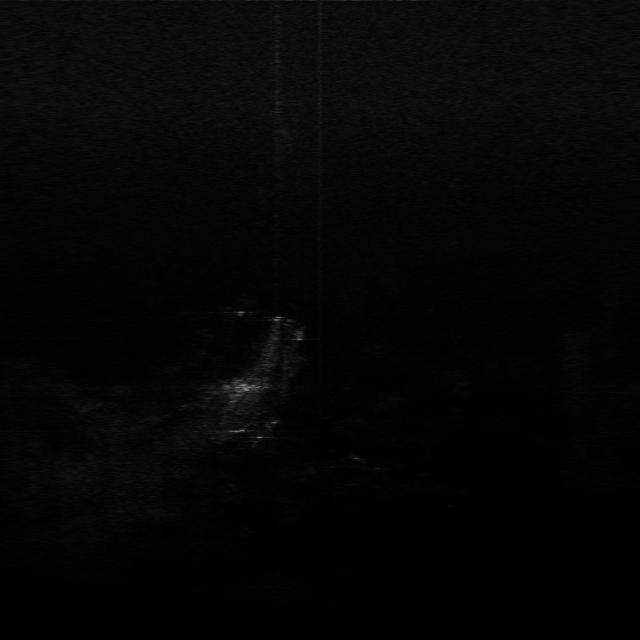rov: (223, 376, 259, 400)
